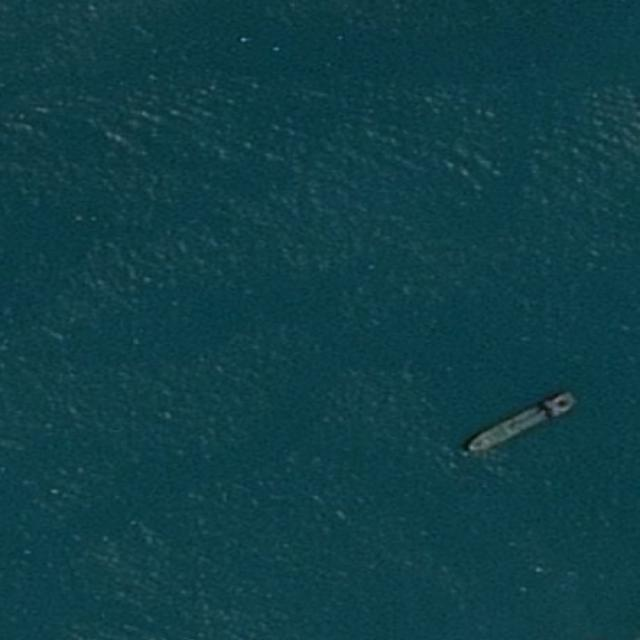Cargo: (461, 388, 579, 457)
